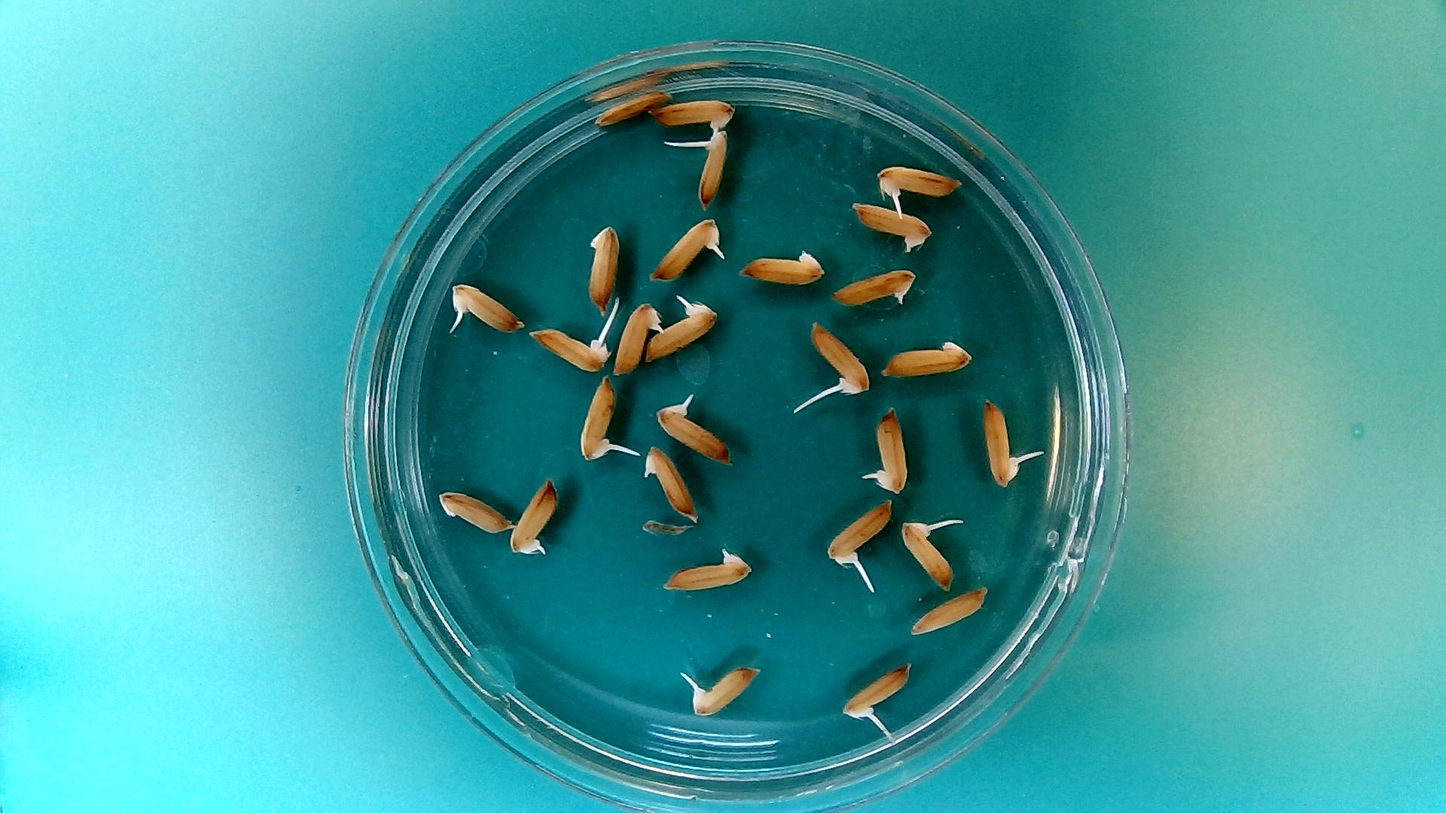no: (910, 586, 989, 636), (737, 244, 828, 287), (435, 487, 514, 534), (880, 340, 970, 379), (583, 222, 617, 315), (651, 99, 735, 132), (856, 206, 928, 244), (595, 93, 671, 126)
yes: (808, 318, 870, 394), (825, 496, 894, 563), (652, 405, 727, 466), (650, 220, 721, 282), (644, 445, 700, 523), (643, 301, 713, 363), (840, 659, 912, 719), (899, 520, 956, 593), (508, 477, 558, 560), (447, 284, 526, 336), (690, 664, 764, 719), (575, 373, 618, 461), (658, 551, 749, 592), (534, 329, 614, 373), (874, 166, 962, 204), (692, 126, 732, 209), (981, 405, 1020, 489), (874, 406, 910, 496), (832, 268, 916, 305), (615, 303, 654, 382)
